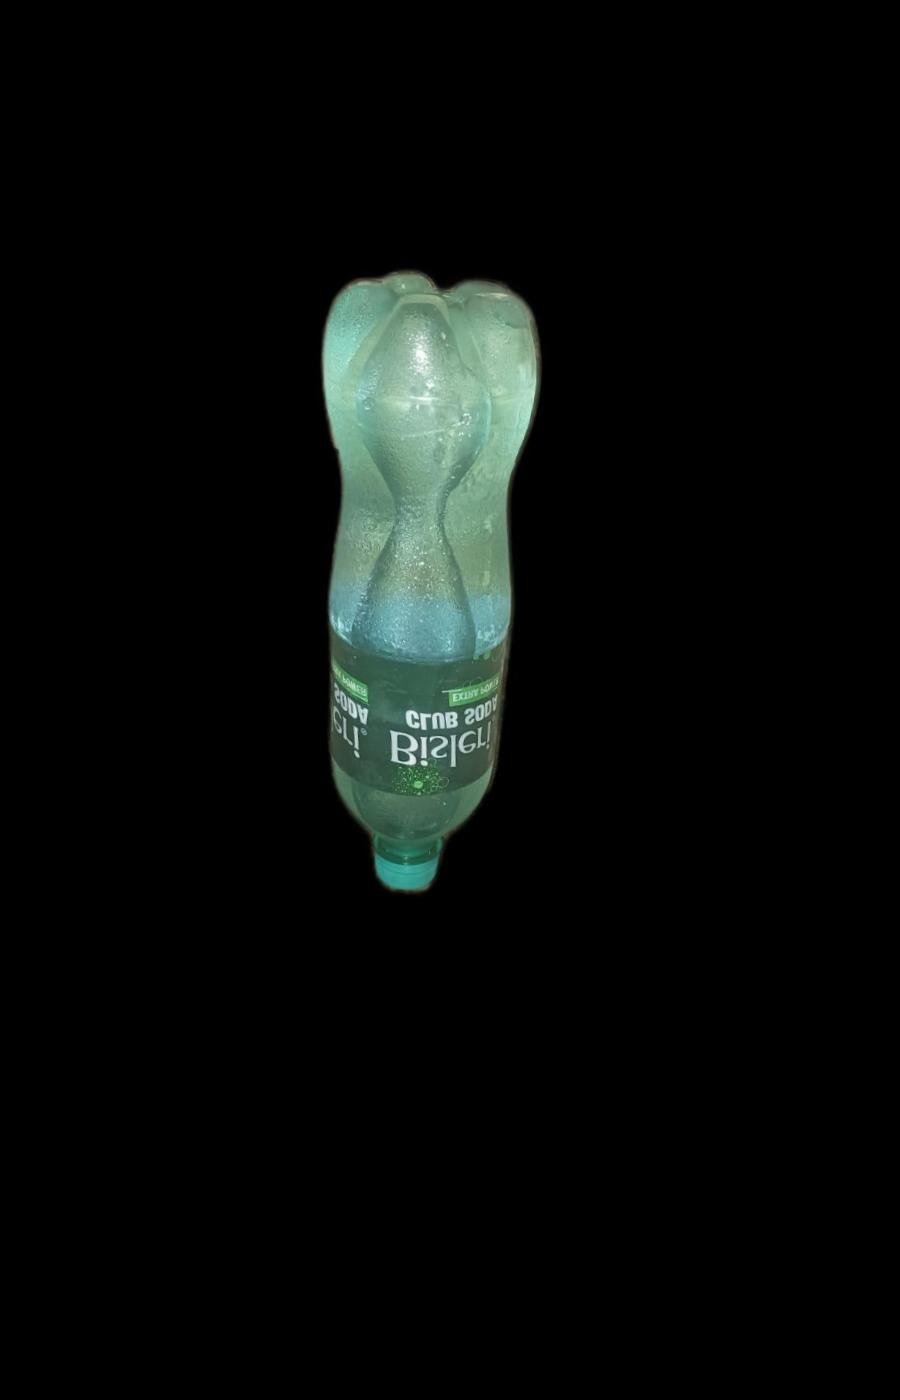Bisleri Club Soda - 750 ml: (295, 253, 553, 916)
